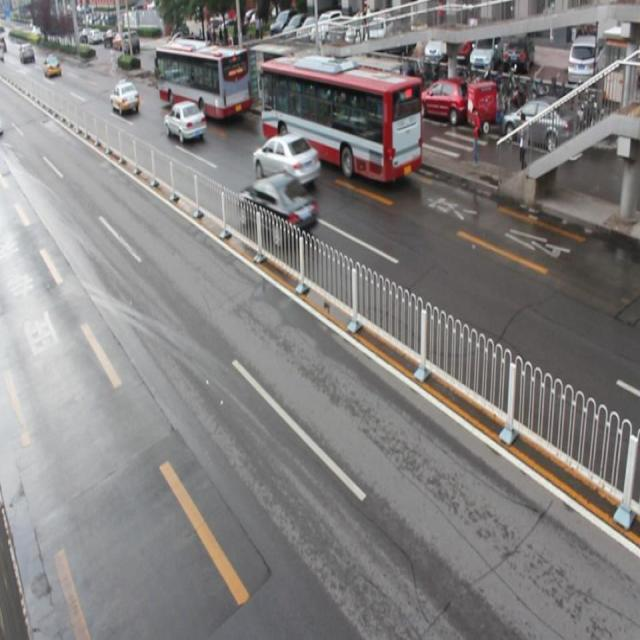car: (238, 170, 317, 245), (253, 133, 320, 191), (164, 100, 207, 144), (110, 80, 140, 117)
van: (259, 57, 422, 181), (157, 43, 250, 119)
